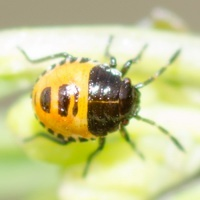insect: (0, 26, 199, 199), (18, 36, 184, 175)
